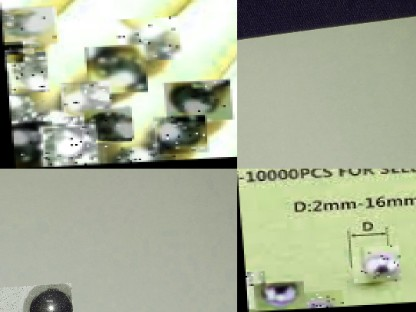ironball: (83, 46, 146, 95), (161, 81, 230, 124), (115, 18, 180, 63), (36, 124, 96, 167), (0, 5, 55, 47), (150, 116, 205, 156), (9, 121, 53, 168), (0, 284, 72, 311), (58, 81, 111, 117), (349, 246, 399, 284), (3, 50, 47, 93), (81, 108, 131, 142), (101, 140, 171, 164), (251, 281, 302, 311), (243, 269, 264, 309), (296, 290, 340, 309), (3, 41, 22, 63)
